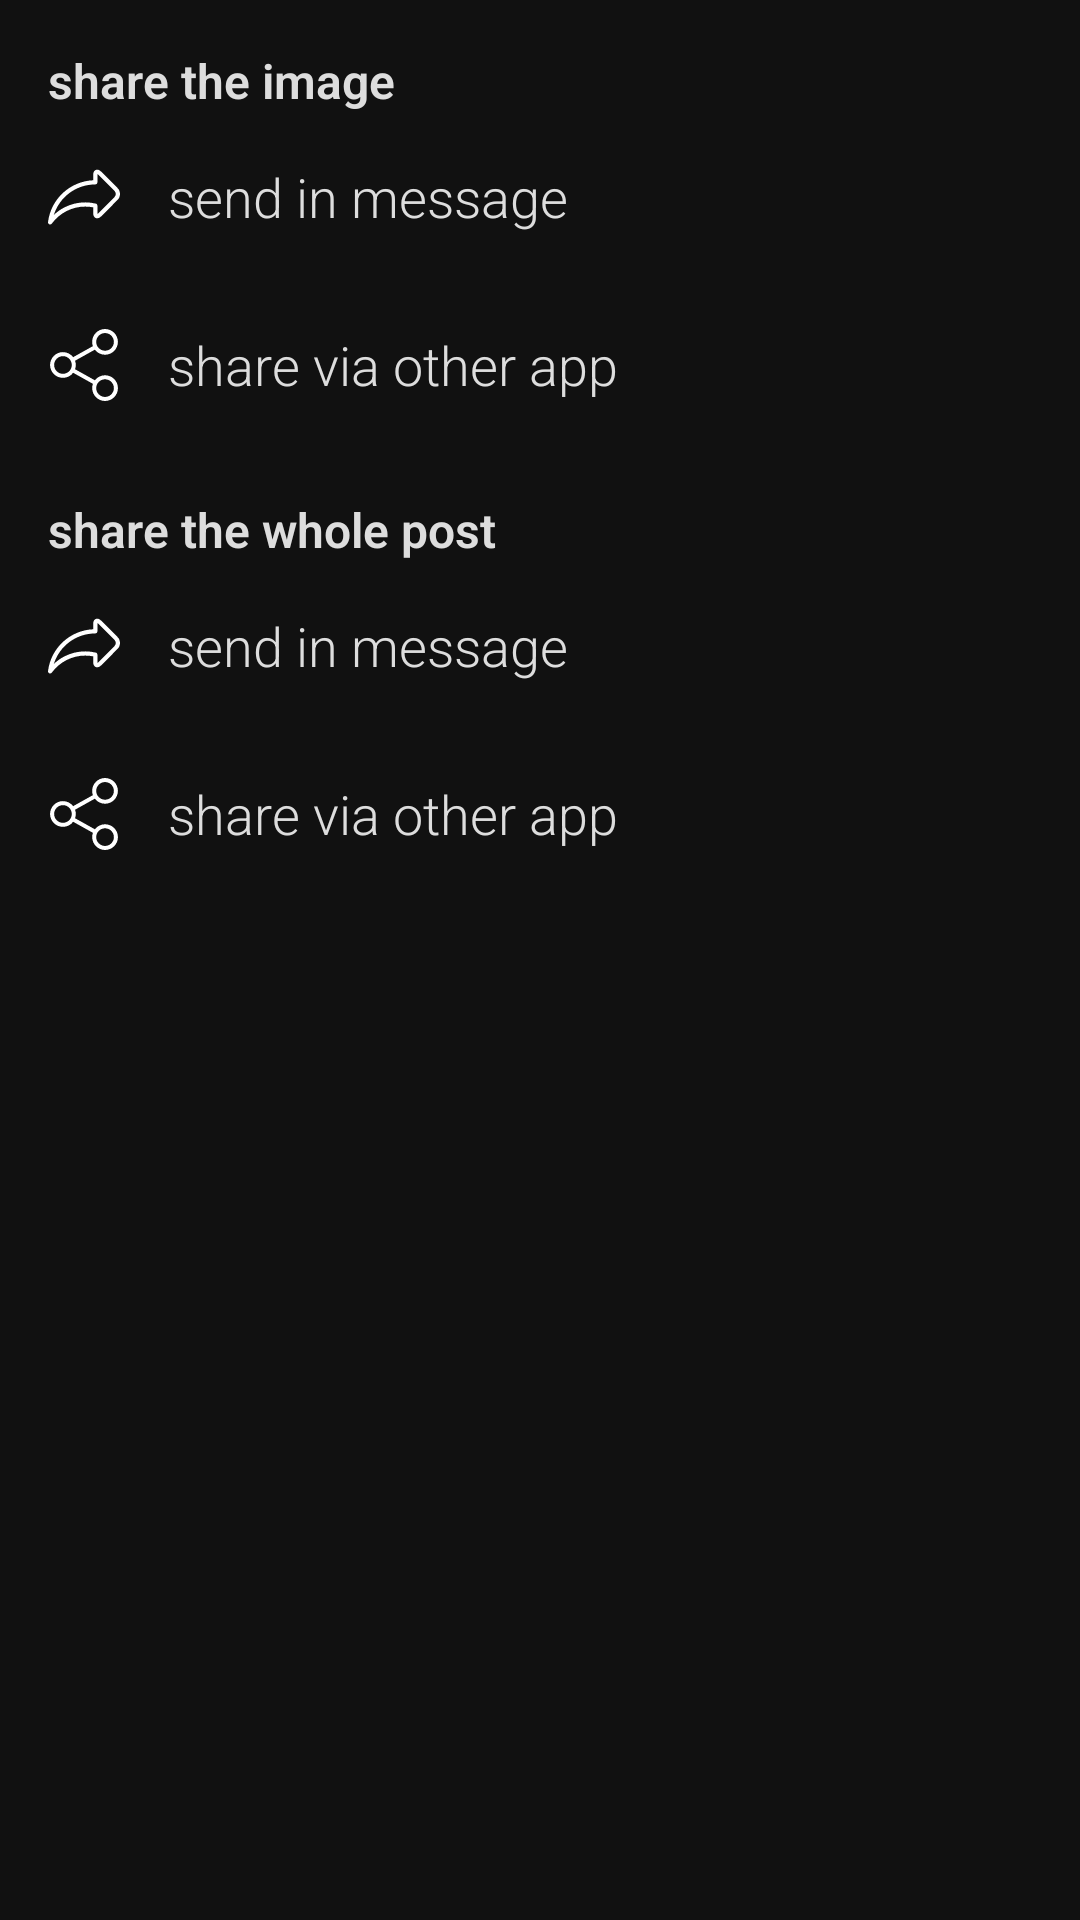

Named icons in this screenshot (1080px x 1920px) and their centers, (x,y):
forward: (84,197), (84,646)
